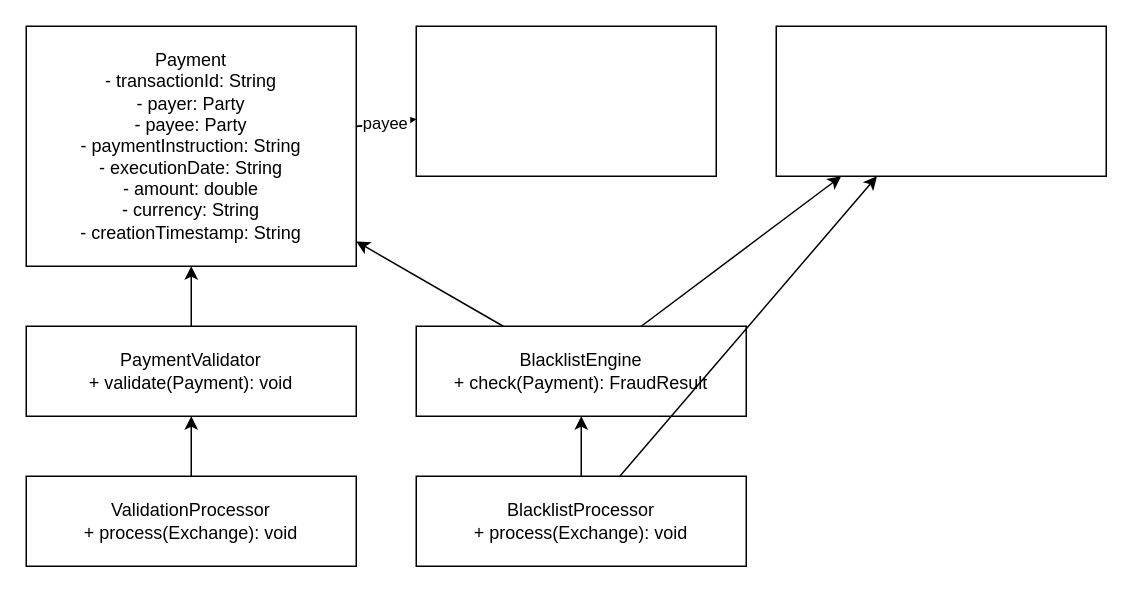
This 1133x593 diagram has some shape labels left out. Here are the shapes that lost their labels. From the top down, the centre of each, then its label:
point (565, 100): Party - name: String - bank: String - country: String - account: String
point (940, 100): FraudResult - transactionId: String - decision: String - message: String
